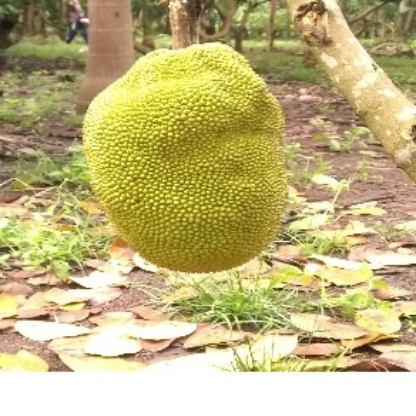mit: (74, 50, 306, 272)
